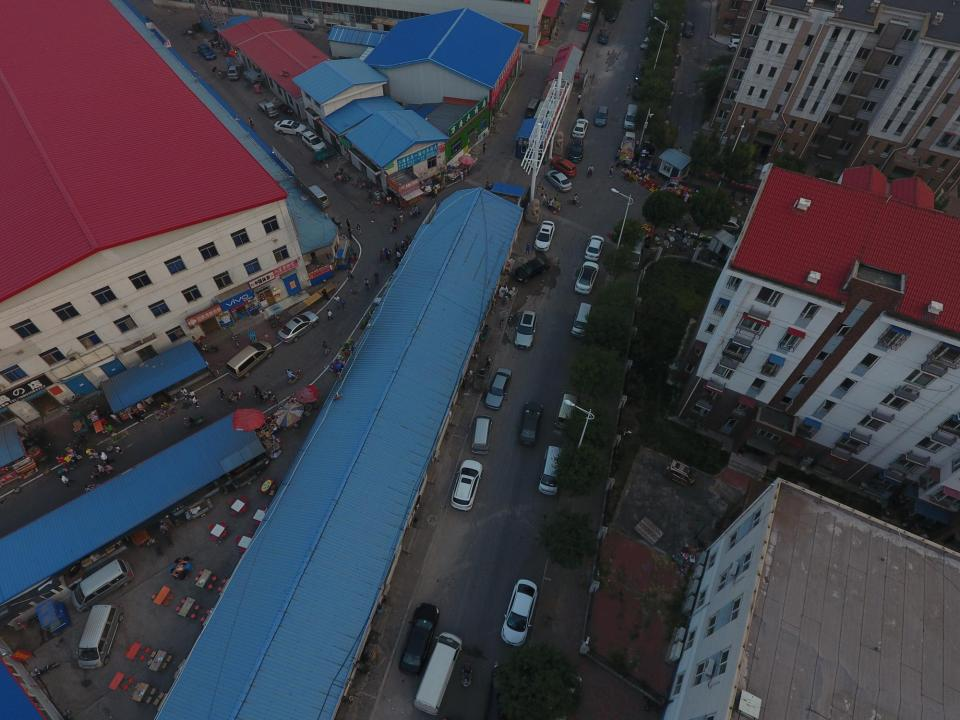car: (398, 602, 440, 677), (500, 579, 538, 647), (450, 460, 482, 512), (278, 310, 319, 344), (484, 368, 513, 409), (518, 401, 543, 448), (663, 457, 697, 490), (512, 255, 549, 284), (514, 310, 539, 350), (575, 261, 600, 295), (533, 221, 555, 251), (544, 170, 572, 192), (550, 157, 578, 179), (272, 119, 308, 136), (301, 131, 326, 154), (584, 234, 605, 260), (566, 137, 584, 163), (572, 118, 590, 138), (197, 43, 216, 60), (595, 106, 609, 127), (462, 661, 473, 686), (226, 64, 242, 80), (682, 20, 695, 38), (566, 197, 581, 208)
truck: (619, 130, 637, 164), (578, 0, 596, 31), (255, 98, 278, 120)
van: (413, 632, 462, 716), (71, 559, 133, 613), (76, 604, 125, 670), (226, 340, 274, 380), (538, 446, 564, 497), (554, 390, 584, 430), (571, 302, 595, 338), (471, 415, 493, 454), (306, 184, 330, 210), (324, 17, 354, 34), (291, 14, 318, 31), (624, 103, 638, 130), (524, 98, 542, 118)
